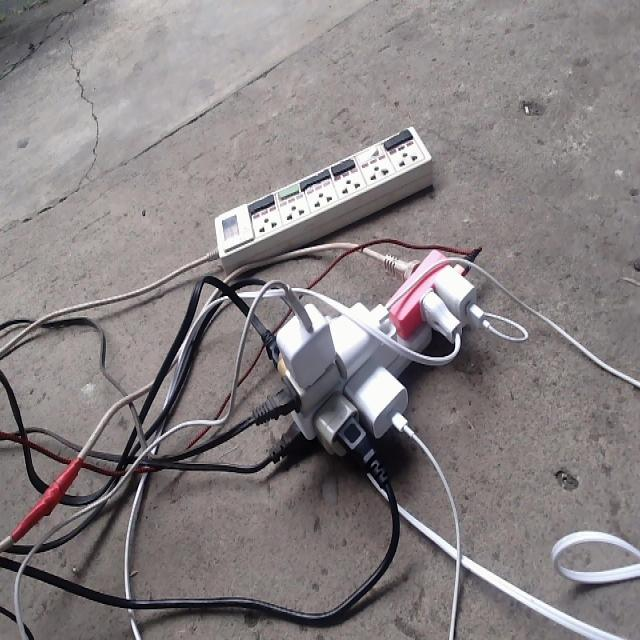-: (251, 249, 484, 472)
